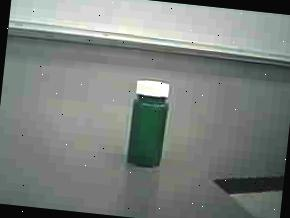Bottle C: (119, 73, 179, 171)
